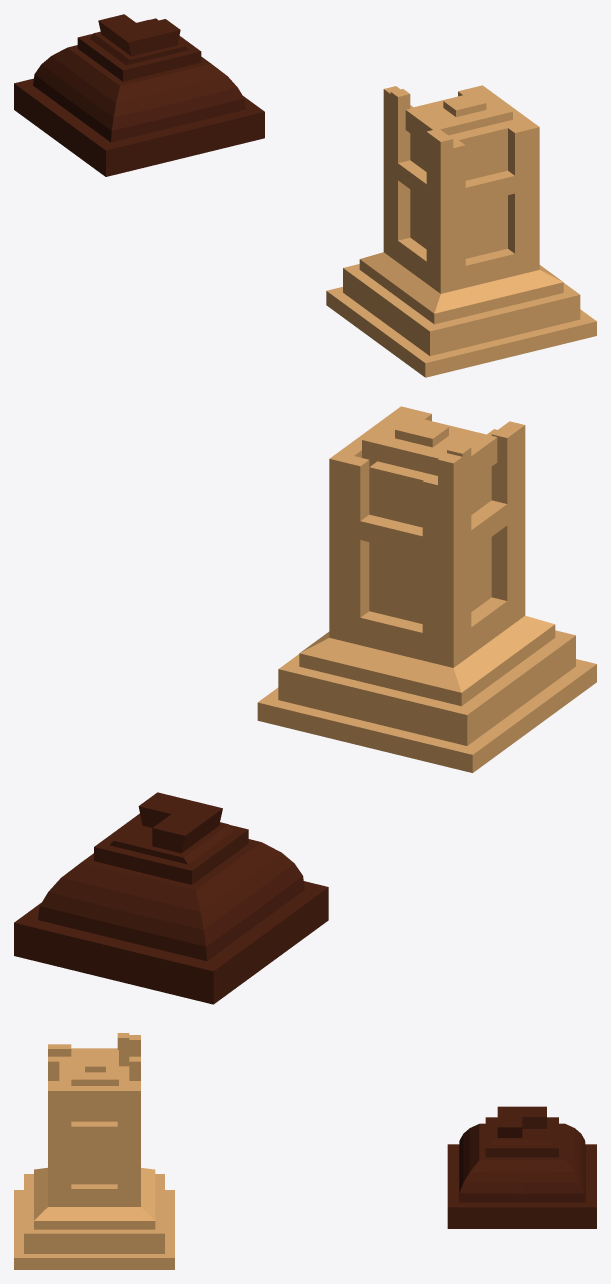
The picture shows the model from 3 angles, top to bottom: view 1: azimuth 30°, elevation 25°; view 2: azimuth 150°, elevation 25°; view 3: azimuth 270°, elevation 25°; orthographic projection. The views are drawn at different scales.
Visible parts, largest first — view 1: Medium Pillar, Small Pillar; view 2: Medium Pillar, Small Pillar; view 3: Medium Pillar, Small Pillar.
Boxes of the visible parts, <box> form: Medium Pillar: <box>326,85,596,377</box>; Small Pillar: <box>14,14,264,176</box>; Medium Pillar: <box>257,406,596,772</box>; Small Pillar: <box>14,792,328,1004</box>; Medium Pillar: <box>14,1033,174,1269</box>; Small Pillar: <box>447,1106,596,1228</box>.
Size of the model in its own units: 0.4335 by 0.4157 by 1.2.
